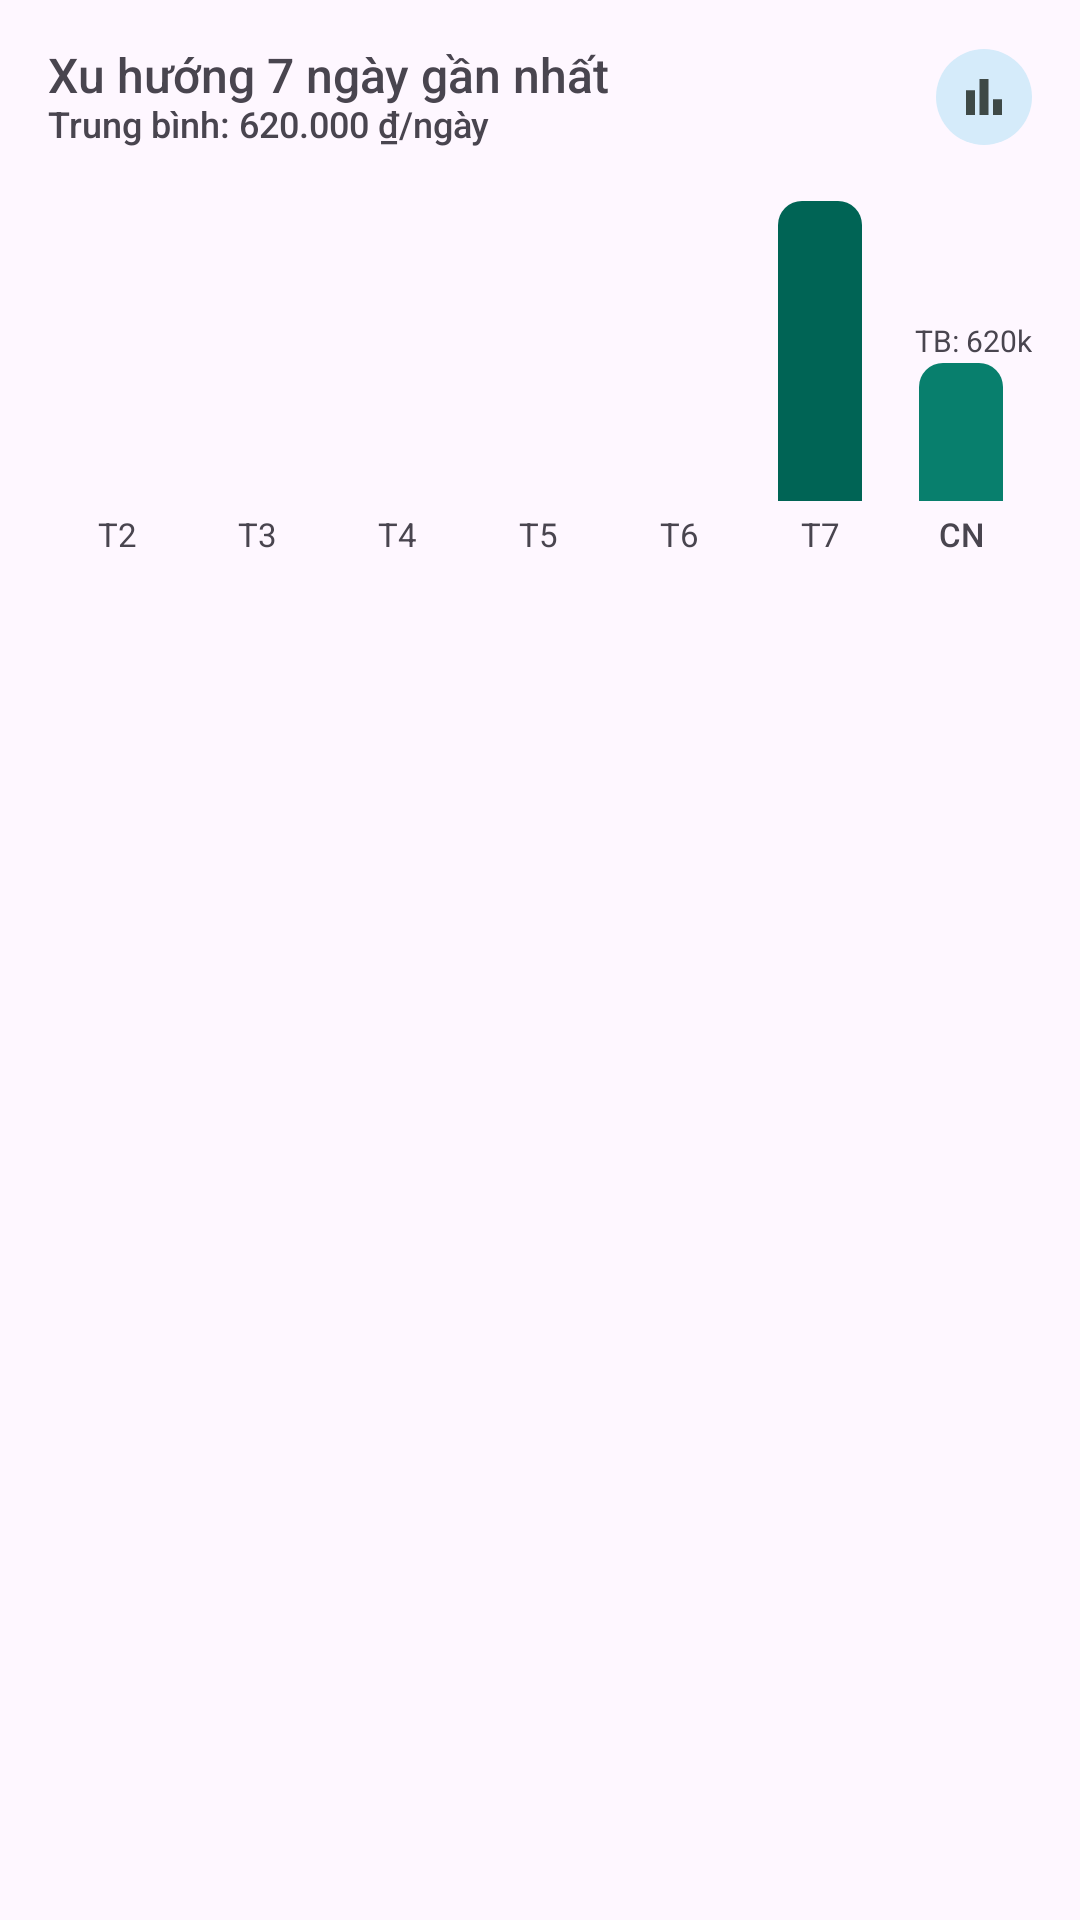

Icons on this 1080w x 1920h Android screen, each with its box as rect(x1, y1, x2, y2):
dashboard trend: rect(966, 79, 1002, 115)
